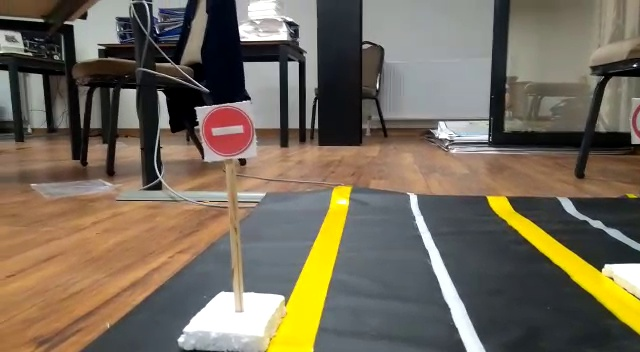girisi_olmayan_yol: (203, 101, 257, 158)
